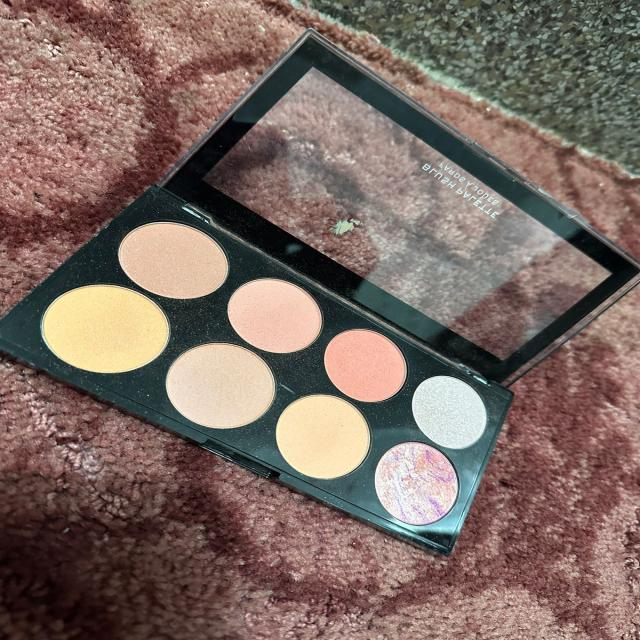highlighter: (44, 277, 176, 384), (123, 198, 237, 306), (276, 372, 376, 490), (169, 342, 283, 438), (364, 437, 473, 535), (225, 269, 331, 359), (326, 309, 416, 403), (406, 368, 497, 455)
